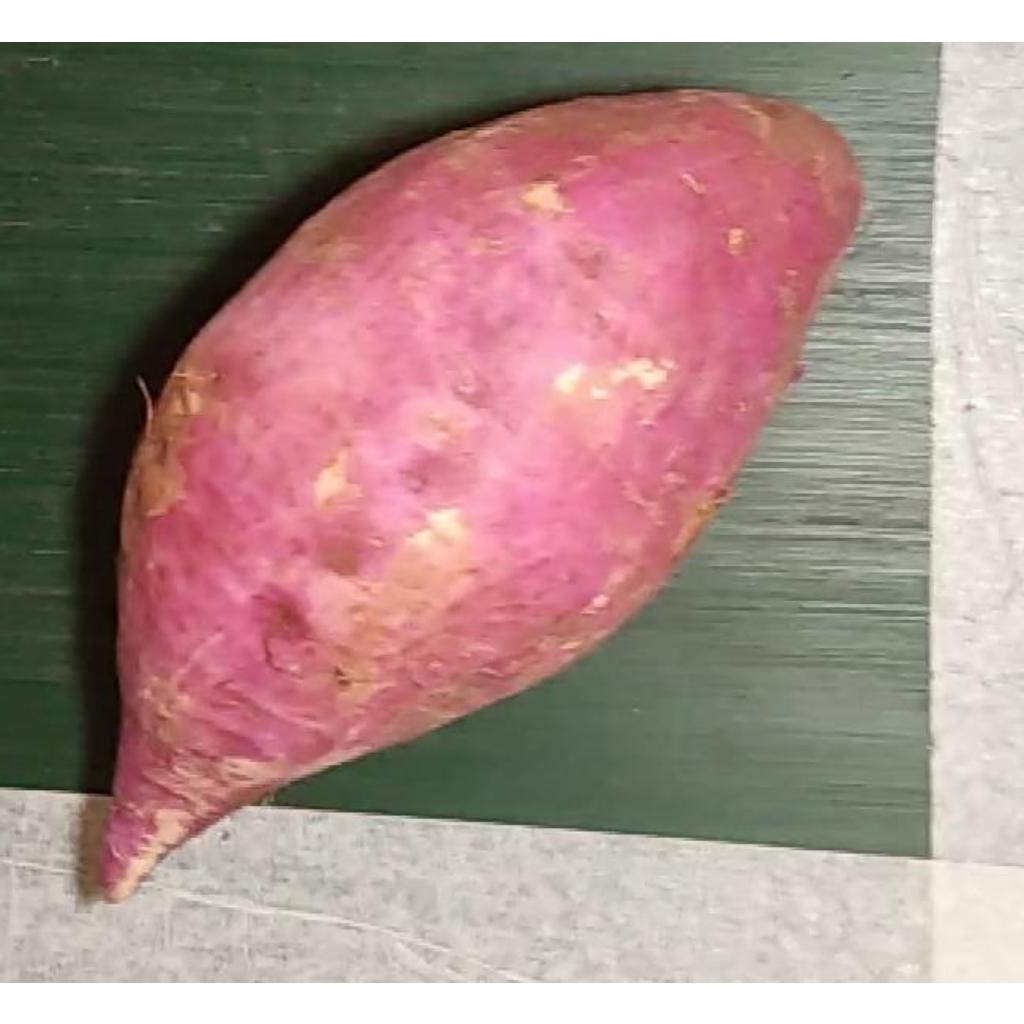Sweet Potato: (103, 87, 868, 900)
